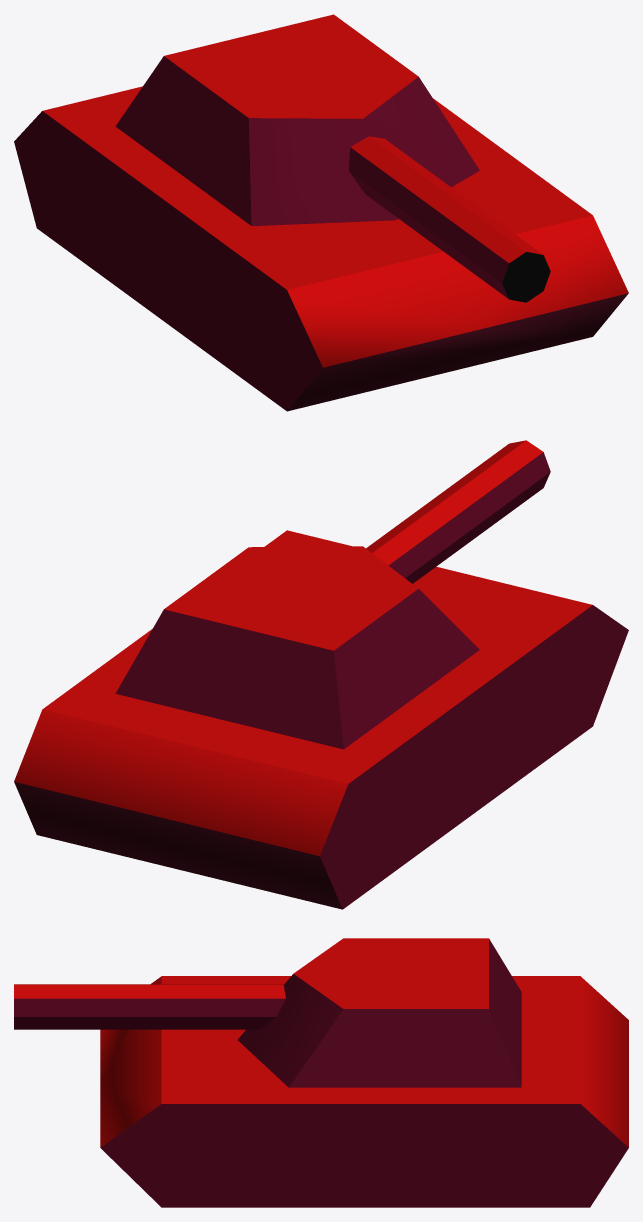
Rendered from Enemy_Tank_A.fbx.
3 views of the same model, one above another, from view 1: azimuth 30°, elevation 25°; view 2: azimuth 150°, elevation 25°; view 3: azimuth 270°, elevation 25° (orthographic). The views are drawn at different scales.
Parts seen in each view (by area): view 1: pCube1, pCylinder2; view 2: pCube1, pCylinder2; view 3: pCube1, pCylinder2.
Part boxes in pixels (x1,y1,x2,y2): pCube1: (14,86,628,411); pCylinder2: (115,14,550,302); pCube1: (14,530,628,909); pCylinder2: (115,440,550,749); pCube1: (100,976,628,1207); pCylinder2: (14,938,521,1087).
Bounding box in the file's own units: 0.8 × 0.4973 × 1.63.
